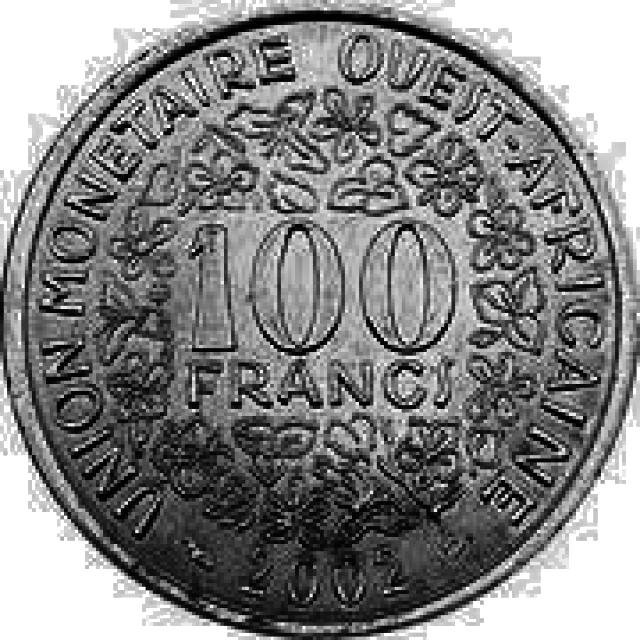niaari fukk: (4, 9, 632, 632)
